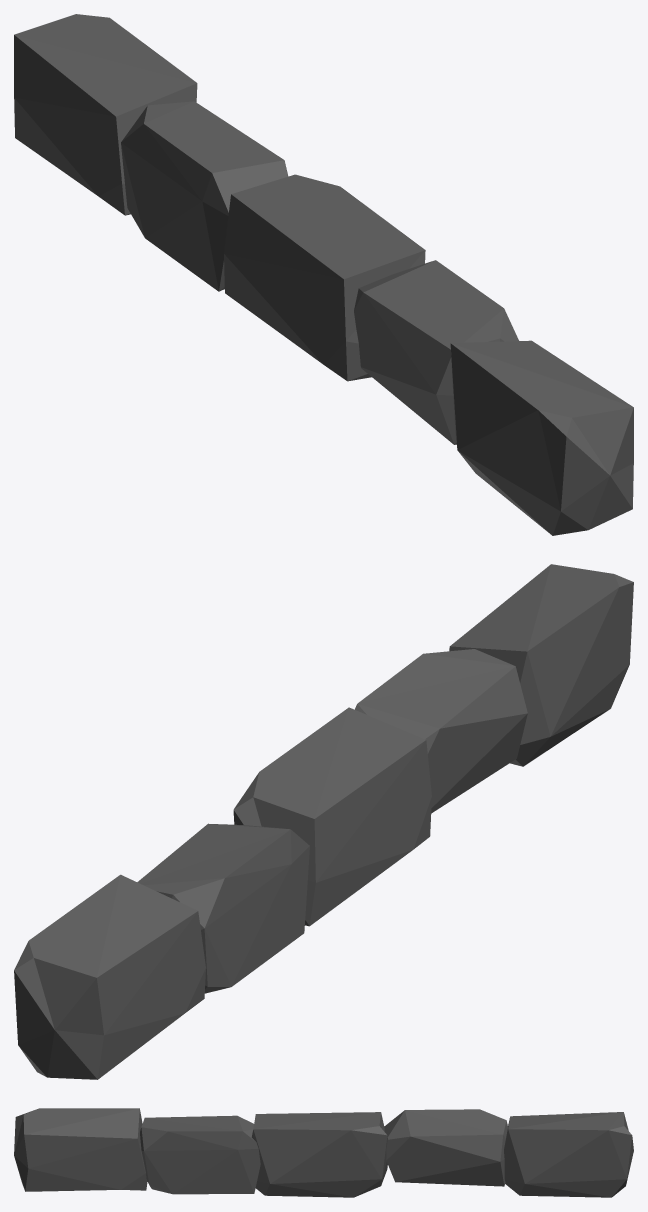
File: foundation_006.glb
The picture shows the model from 3 angles, top to bottom: view 1: azimuth 30°, elevation 25°; view 2: azimuth 150°, elevation 25°; view 3: azimuth 270°, elevation 25°; orthographic projection. The views are drawn at different scales.
Visible parts, largest first — view 1: foundation_006; view 2: foundation_006; view 3: foundation_006.
Part boxes in pixels (bbox=[...]): foundation_006: bbox=[14, 14, 633, 535]; foundation_006: bbox=[14, 564, 633, 1079]; foundation_006: bbox=[14, 1108, 633, 1197].
Bounding box in the file's own units: 0.9632 × 1.26 × 9.97.
Materials: 1 (1 with a texture image).
